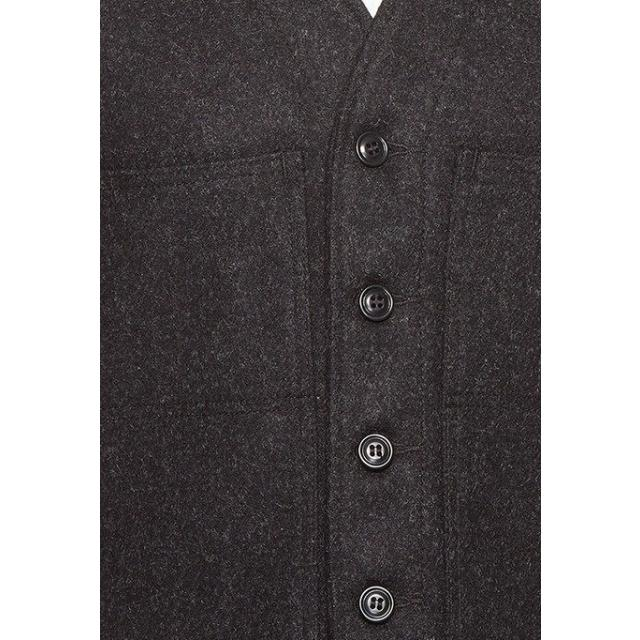wool: (100, 0, 540, 640)
